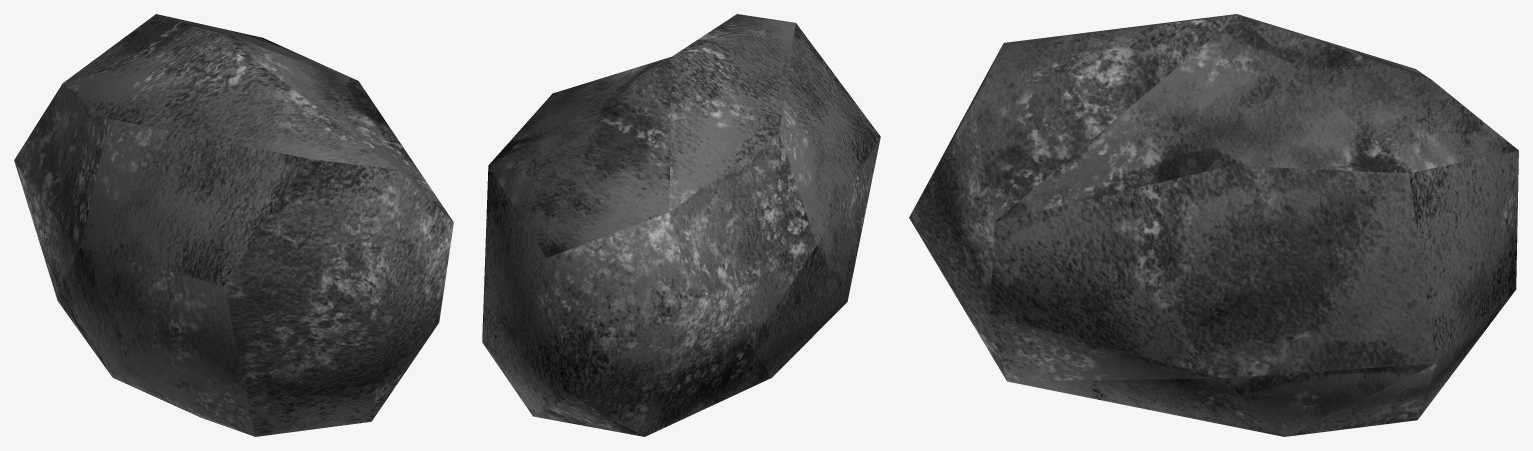
The model's file is Roche1.fbx.
3 renders of one model, left to right at view 1: azimuth 30°, elevation 25°; view 2: azimuth 150°, elevation 25°; view 3: azimuth 270°, elevation 25°, orthographic. The views are drawn at different scales.
Visible parts, largest first — view 1: pPlatonic1; view 2: pPlatonic1; view 3: pPlatonic1.
Part boxes in pixels (x1,y1,x2,y2): pPlatonic1: (14,14,453,436); pPlatonic1: (482,14,880,436); pPlatonic1: (909,14,1518,436).
Size of the model in its own units: 5.95 by 6.59 by 9.23.
